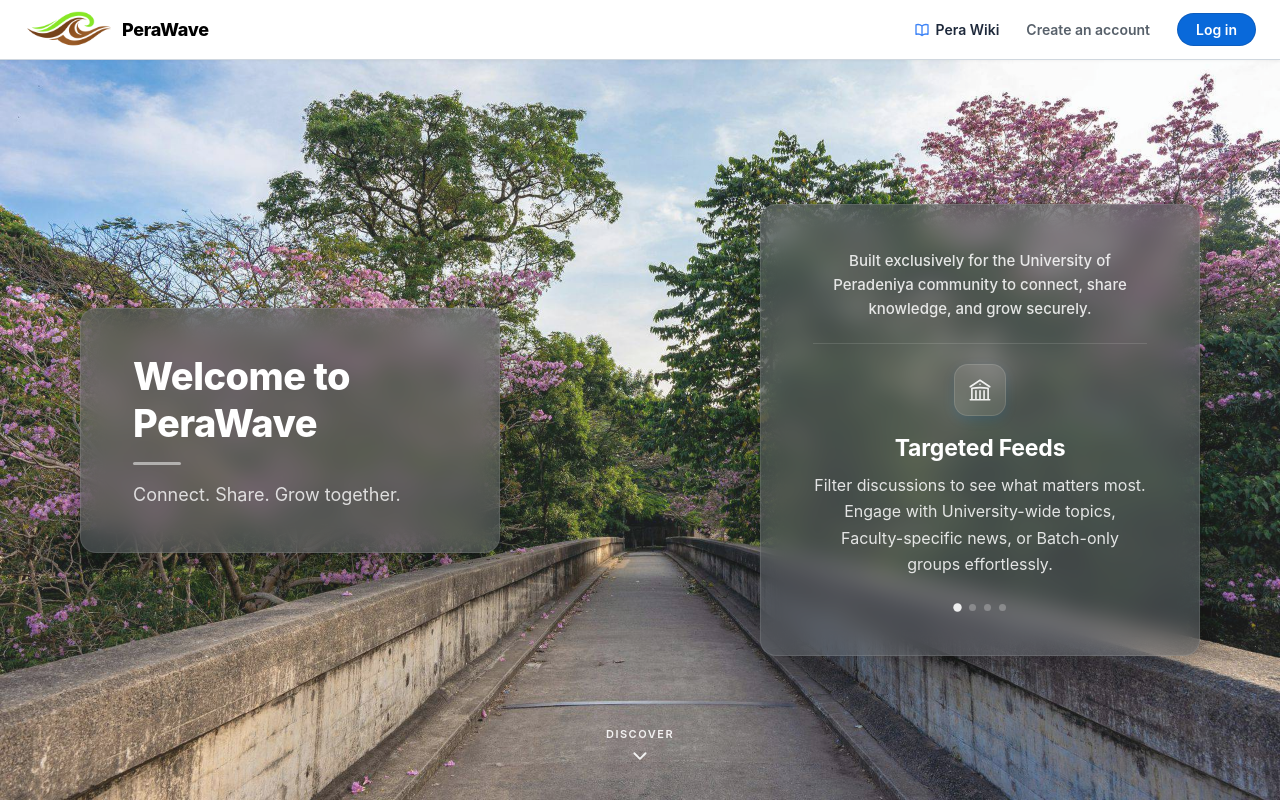
Test case: PeraWave Authentication Flow › simulates a complete user login journey with validations
Click the button "Log in" at coordinates (1217, 30), box [1177,13,1256,46]
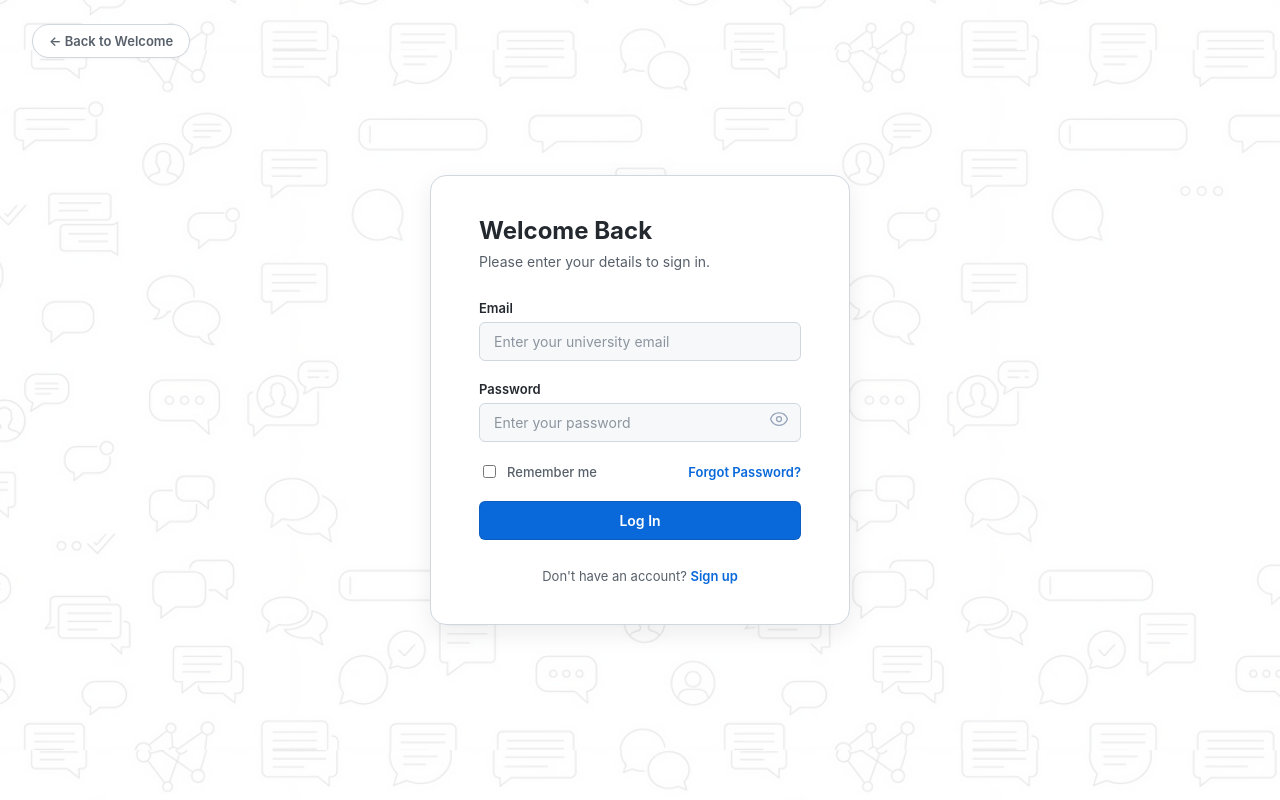
Expected: the heading "Welcome Back" is shown, [479,216,652,245]
Type "invalid-email@gmail.com" into the field with id "email" at coordinates (640, 342), box [479,322,801,361]
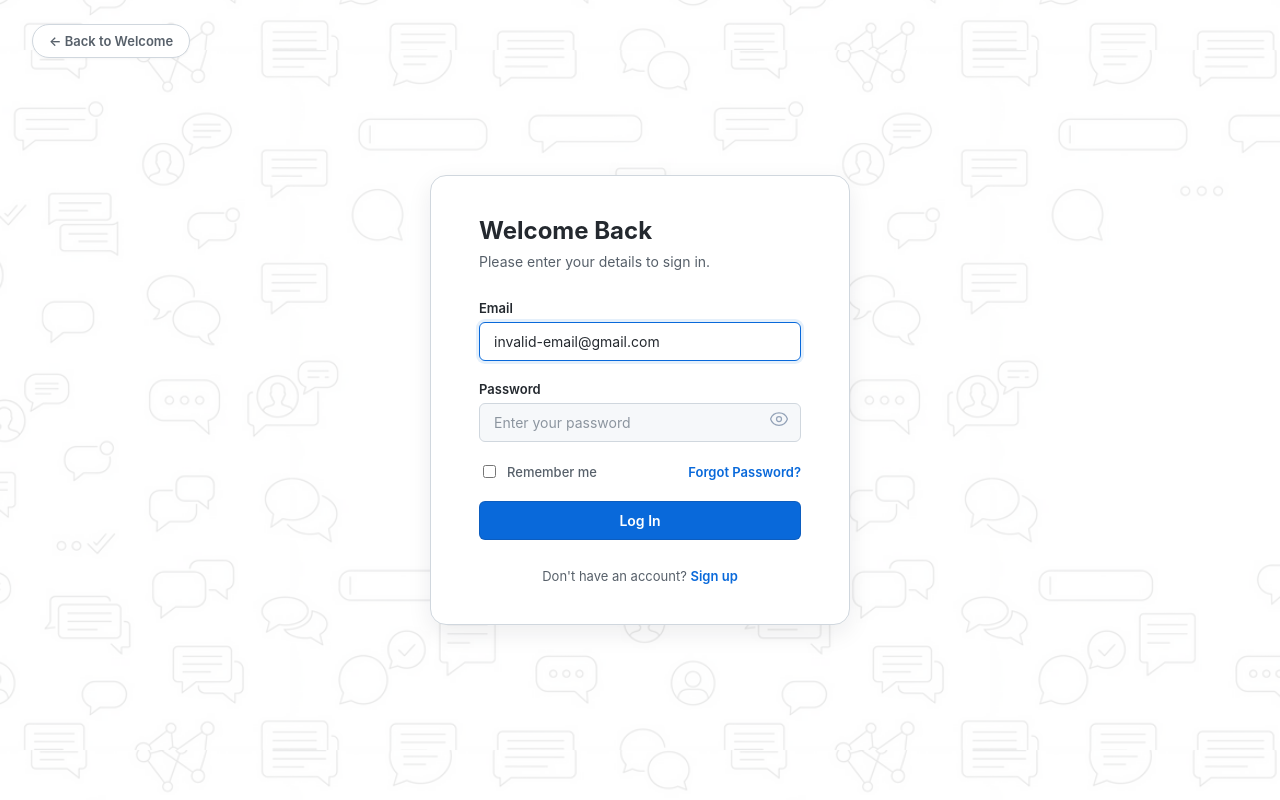
Type "secret123" into the password field labelled "Password" at coordinates (640, 423), box [479,403,801,442]
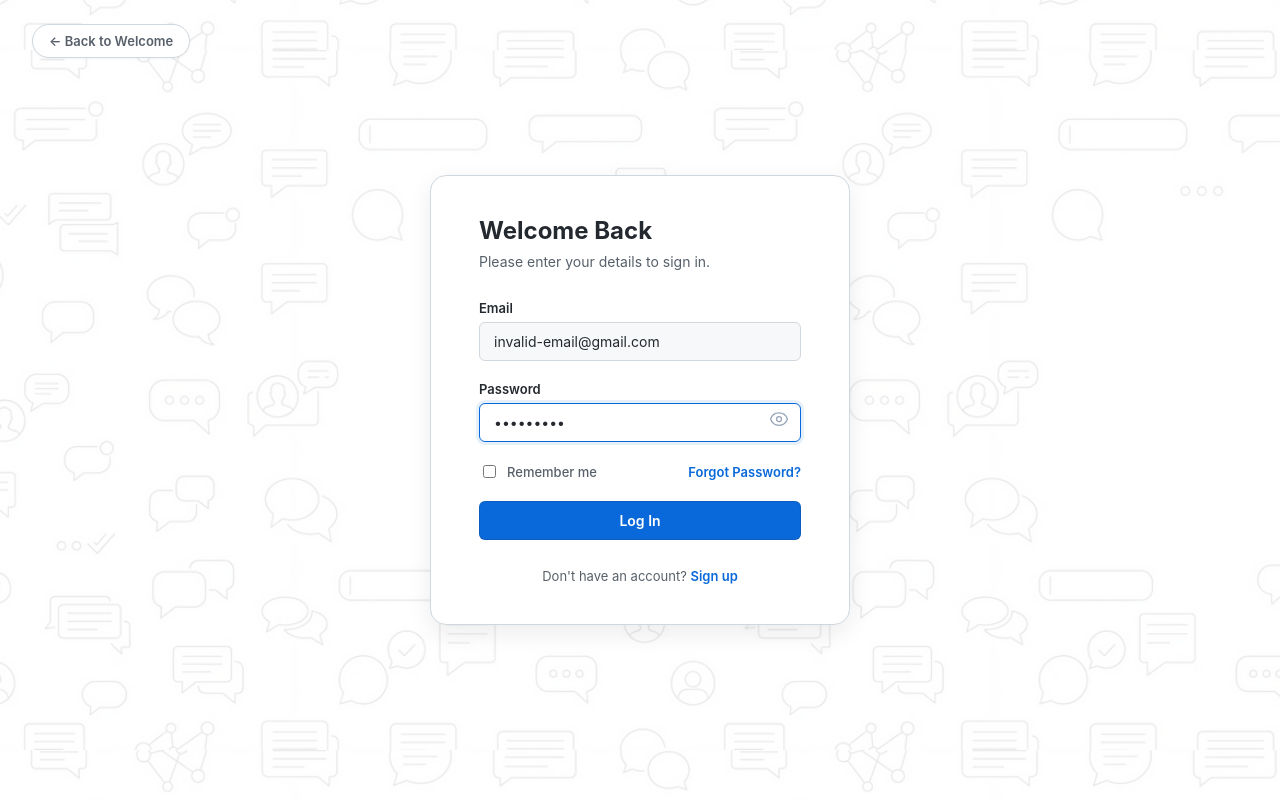
Click the button "Log In" at coordinates (640, 521), box [479,501,801,540]
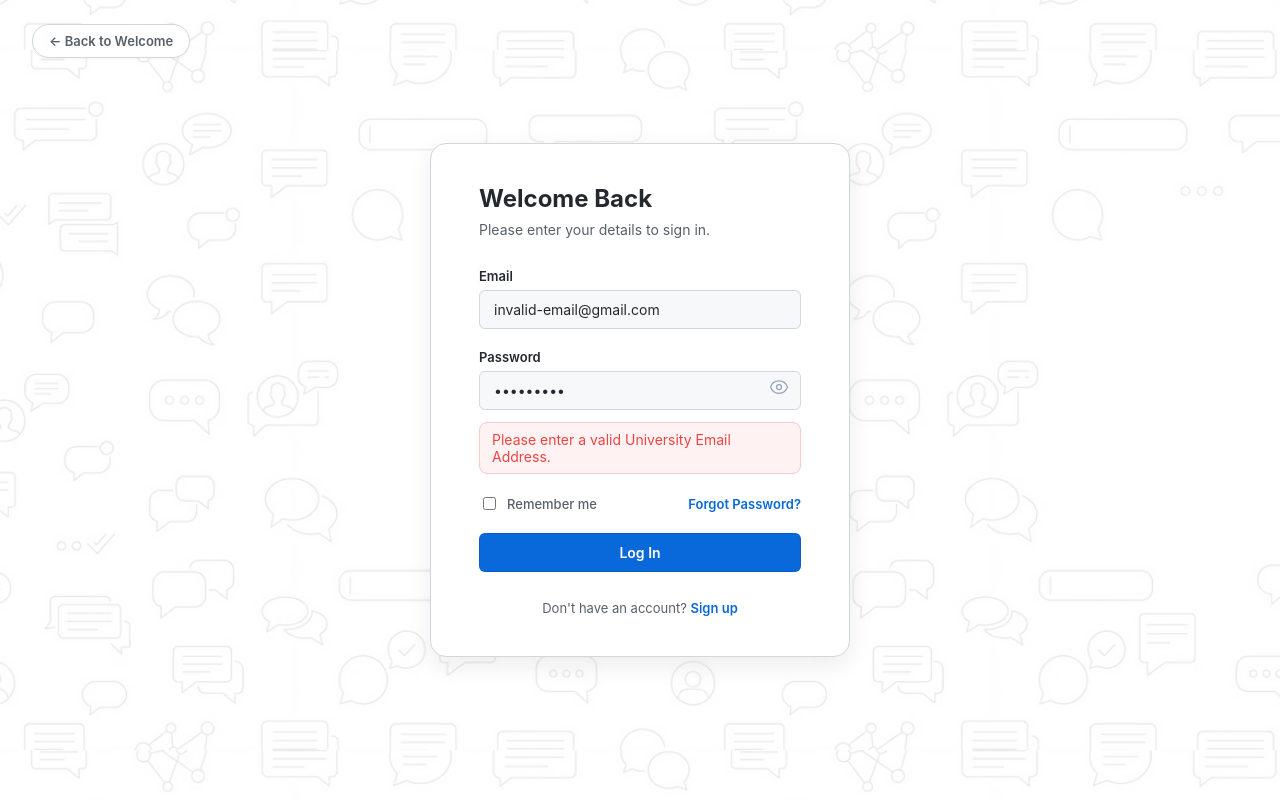
Expected: the text "Please enter a valid University Email Address." is shown, [479,422,801,474]
Replace the text in the field with id "email" with "student@eng.pdn.ac.lk" at coordinates (640, 310), box [479,290,801,329]
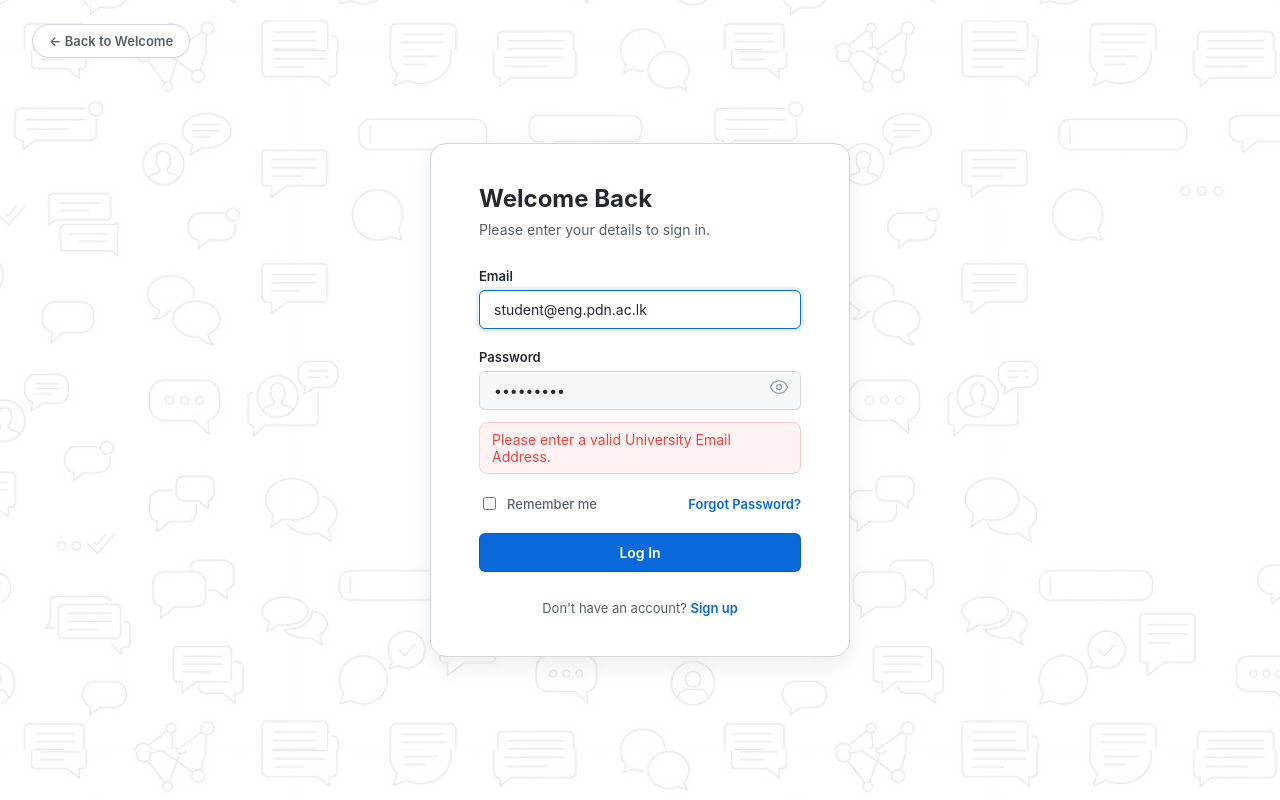
Click the button "Log In" at coordinates (640, 553), box [479,533,801,572]
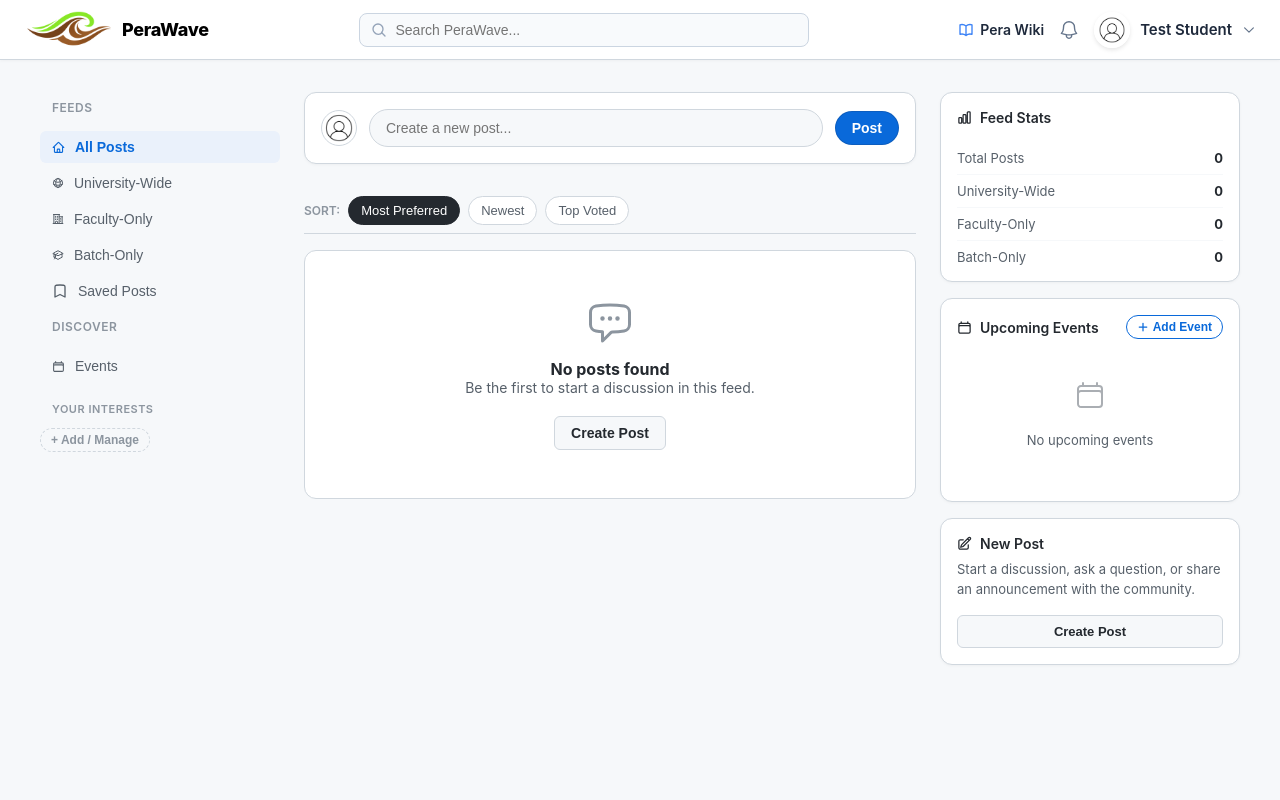
Expected: the text "Test Student" is shown, [1140,20,1232,39]
